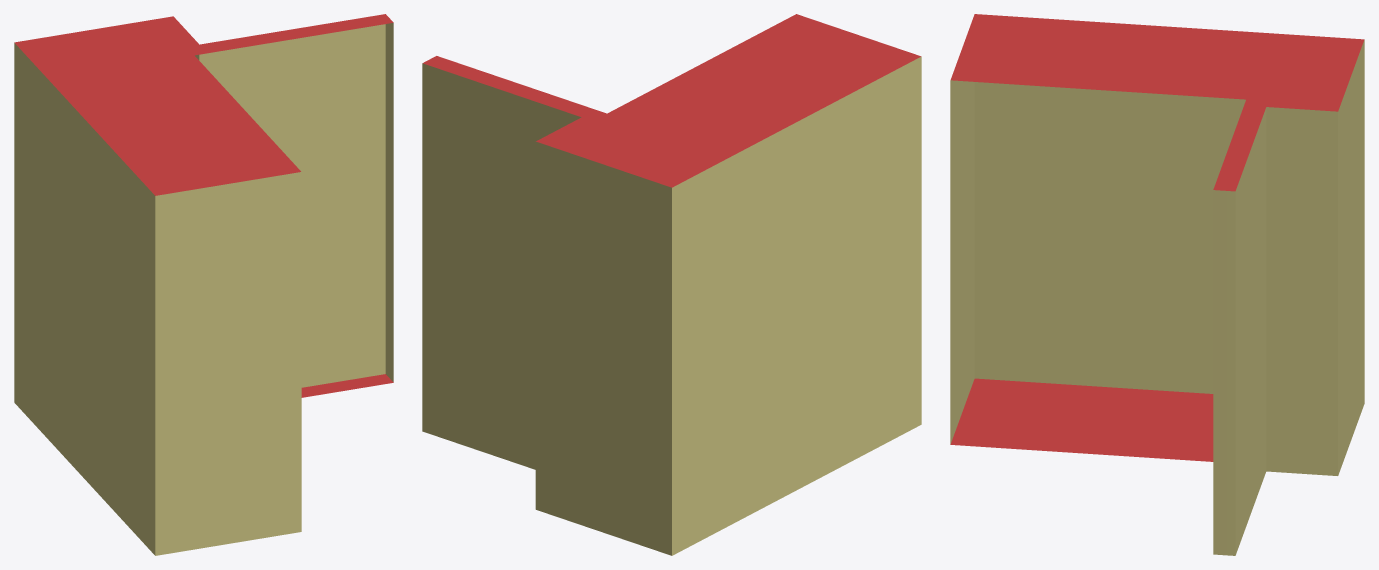
The picture shows the model from 3 angles, left to right: view 1: azimuth 30°, elevation 25°; view 2: azimuth 150°, elevation 25°; view 3: azimuth 270°, elevation 25°; orthographic projection. The views are drawn at different scales.
Bounding box in the file's own units: 9.32 × 9.19 × 8.93.
